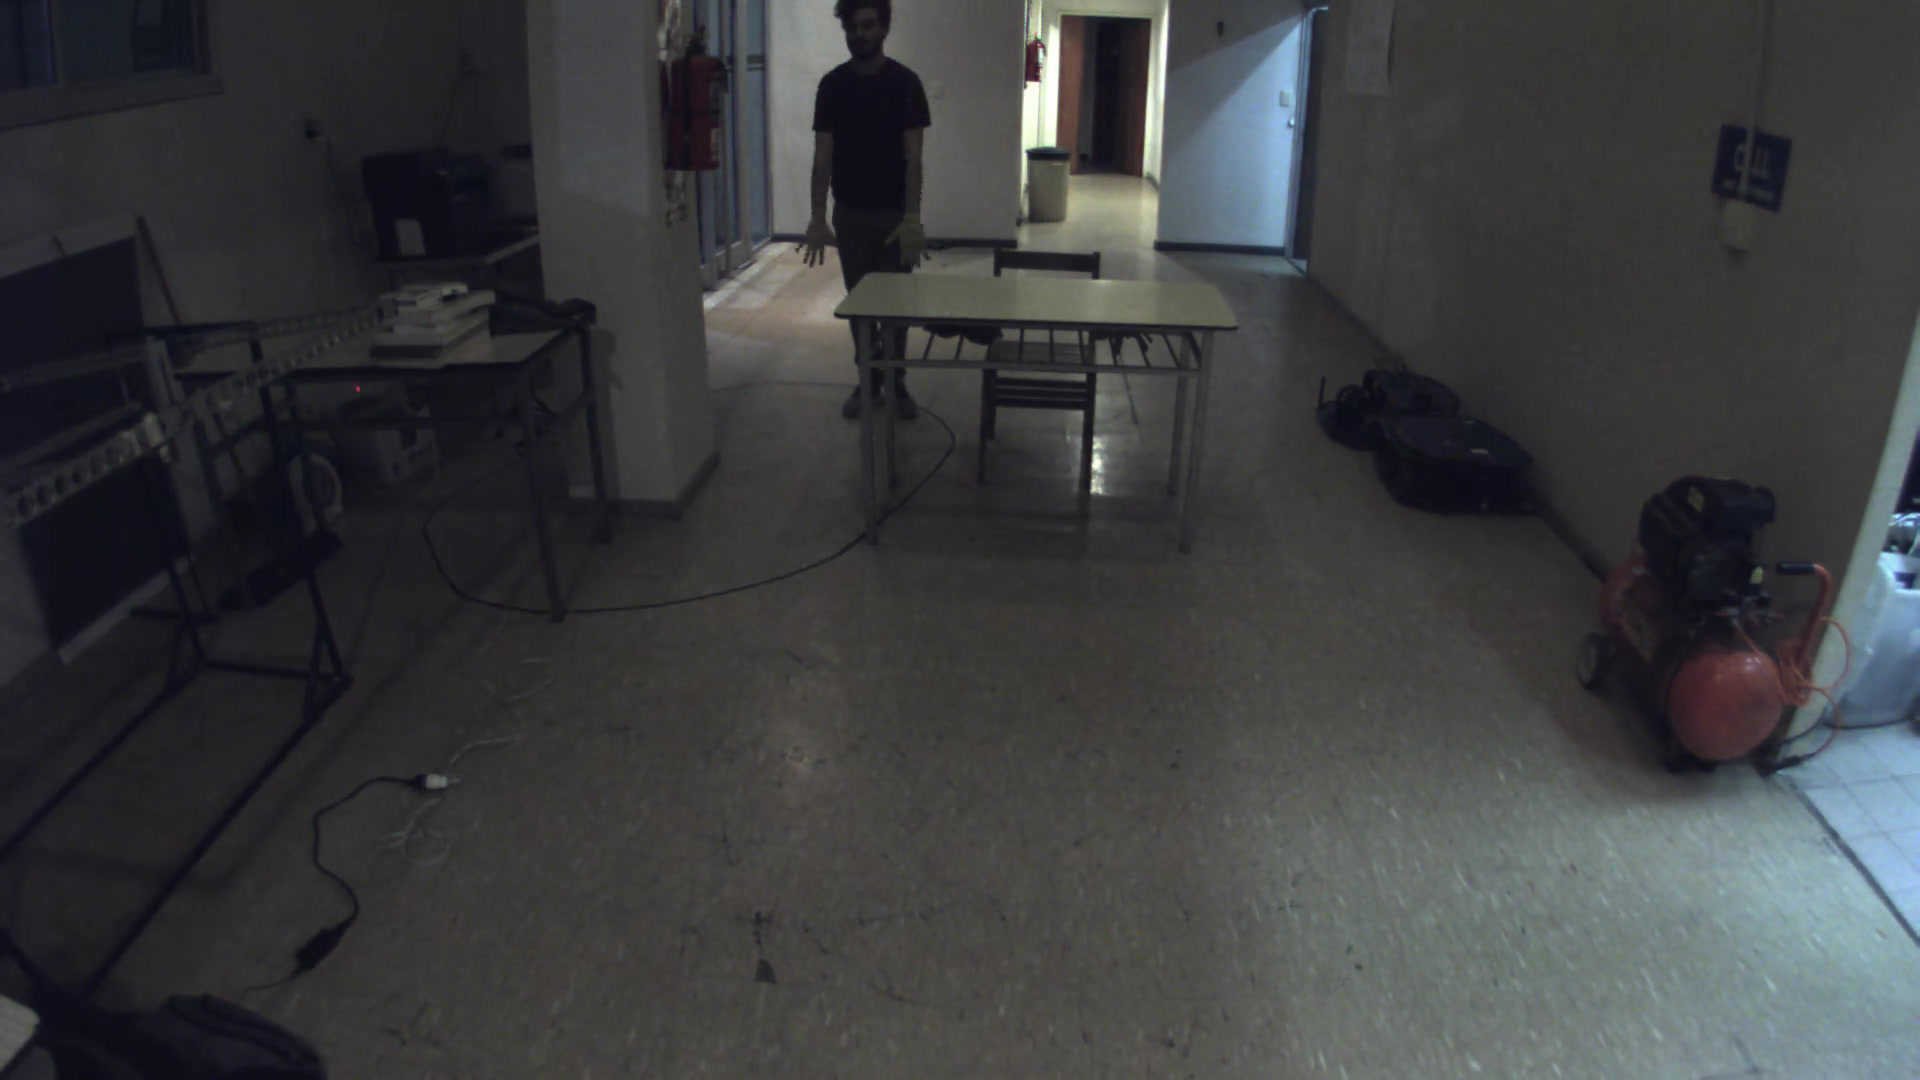hand: (793, 194, 847, 270), (882, 202, 940, 272)
